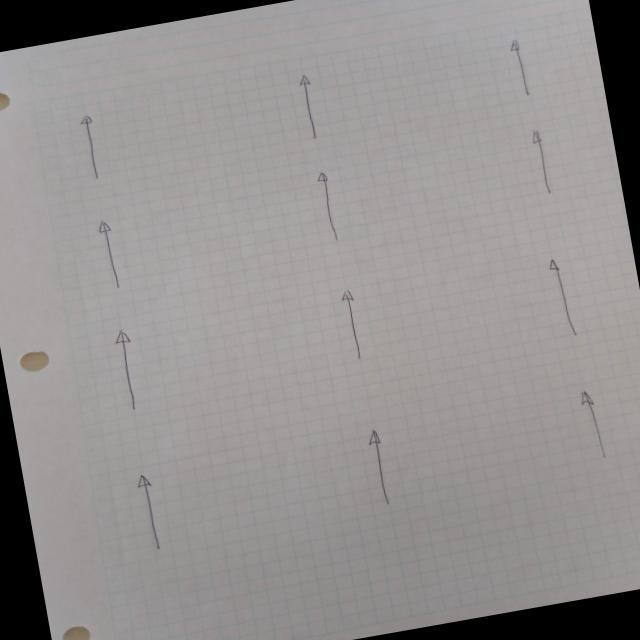arrow_line_up: (558, 380, 623, 470), (358, 424, 413, 516), (88, 210, 143, 296), (129, 472, 180, 556), (544, 252, 590, 341), (104, 324, 150, 410), (308, 166, 356, 248), (331, 282, 374, 368), (71, 108, 116, 186), (507, 34, 552, 110), (524, 127, 558, 193), (296, 72, 326, 139)
